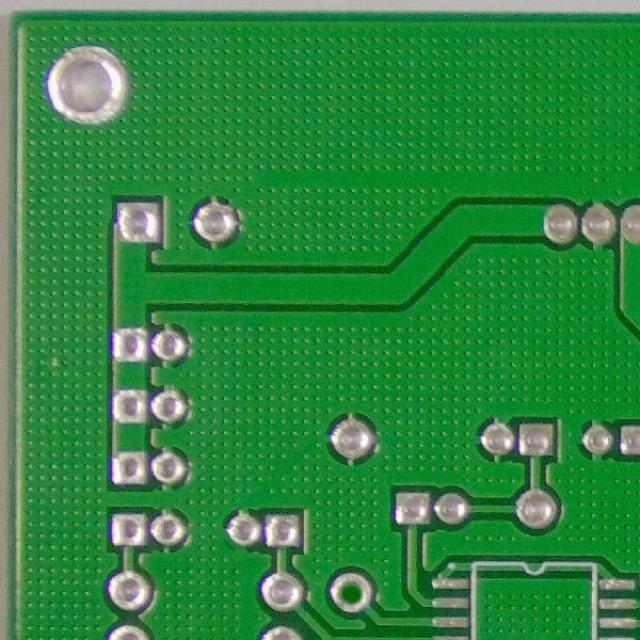missing_hole: (326, 568, 376, 616)
